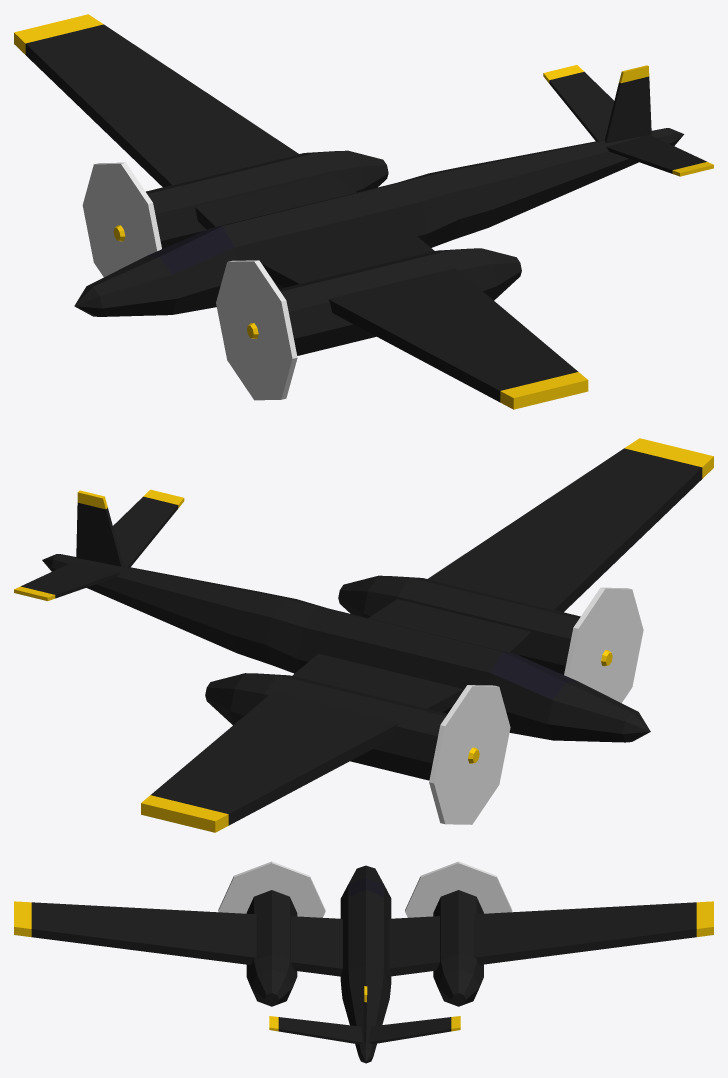
3 views of the same model, one above another, from view 1: azimuth 30°, elevation 25°; view 2: azimuth 150°, elevation 25°; view 3: azimuth 270°, elevation 25° (orthographic). The views are drawn at different scales.
Parts seen in each view (by area): view 1: Cylinder; view 2: Cylinder; view 3: Cylinder.
Part boxes in pixels (left/top/right/bottom): Cylinder: left=14, top=14, right=713, bottom=409; Cylinder: left=14, top=438, right=713, bottom=832; Cylinder: left=14, top=861, right=713, bottom=1063.
Bounding box in the file's own units: 12.83 × 3.49 × 18.19.
